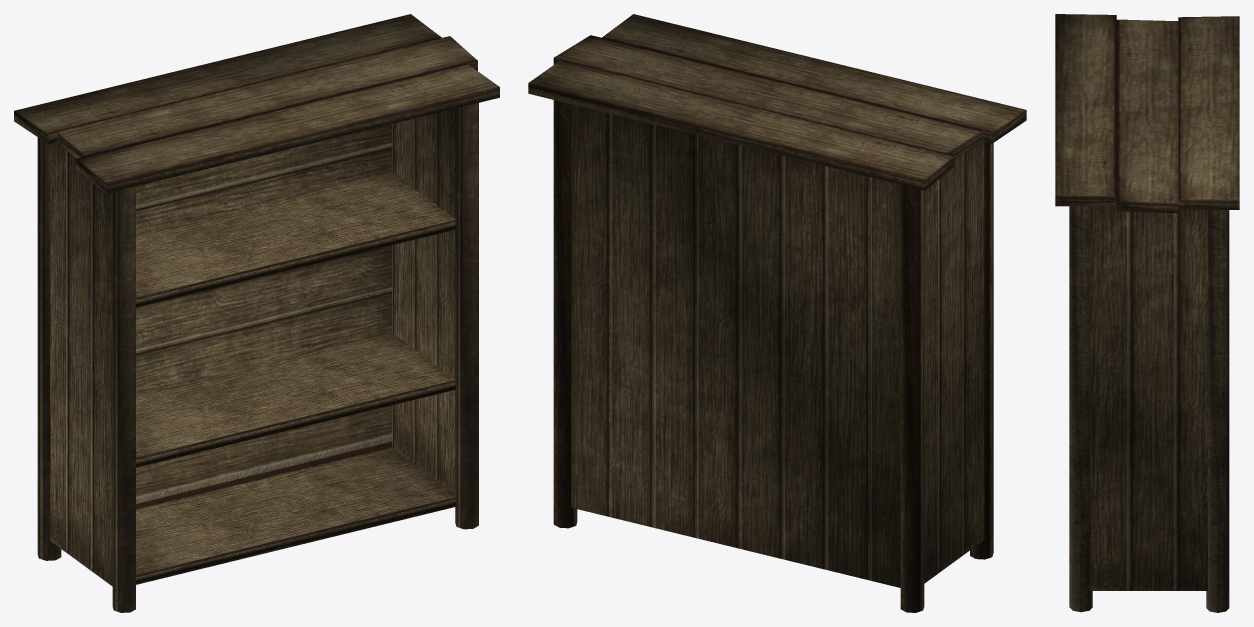
The model's file is GS_BOOKSHELF_OPEN_BROWN_01_KOZA.glb.
3 renders of one model, left to right at view 1: azimuth 30°, elevation 25°; view 2: azimuth 150°, elevation 25°; view 3: azimuth 270°, elevation 25°, orthographic. The views are drawn at different scales.
Visible parts, largest first — view 1: Mesh; view 2: Mesh; view 3: Mesh.
Part boxes in pixels (box(x1,y1,x2,y2)): Mesh: box(14, 14, 499, 612); Mesh: box(528, 14, 1026, 612); Mesh: box(1055, 14, 1239, 612).
Bounding box in the file's own units: 1.4 × 1.45 × 0.5777.
Materials: 2 (2 with a texture image).
